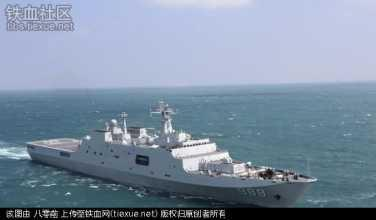warship: (21, 93, 320, 204)
